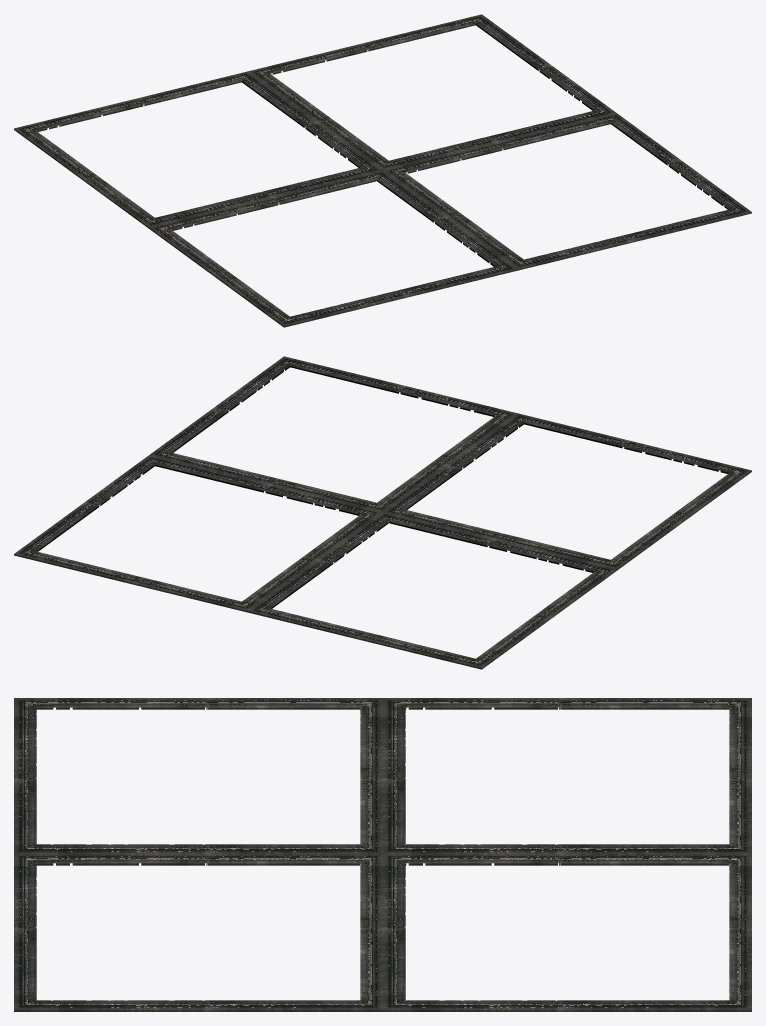
File: tesla_props_giant_fuse_01_hood.dae
The picture shows the model from 3 angles, top to bottom: view 1: azimuth 30°, elevation 25°; view 2: azimuth 150°, elevation 25°; view 3: azimuth 270°, elevation 25°; orthographic projection. The views are drawn at different scales.
Visible parts, largest first — view 1: polySurface87; view 2: polySurface87; view 3: polySurface87.
Boxes of the visible parts, x1,y1,x2,y2 form: polySurface87: [14, 14, 751, 327]; polySurface87: [14, 356, 751, 669]; polySurface87: [14, 698, 751, 1011].
Bounding box in the file's own units: 800 × 2.48 × 800.
